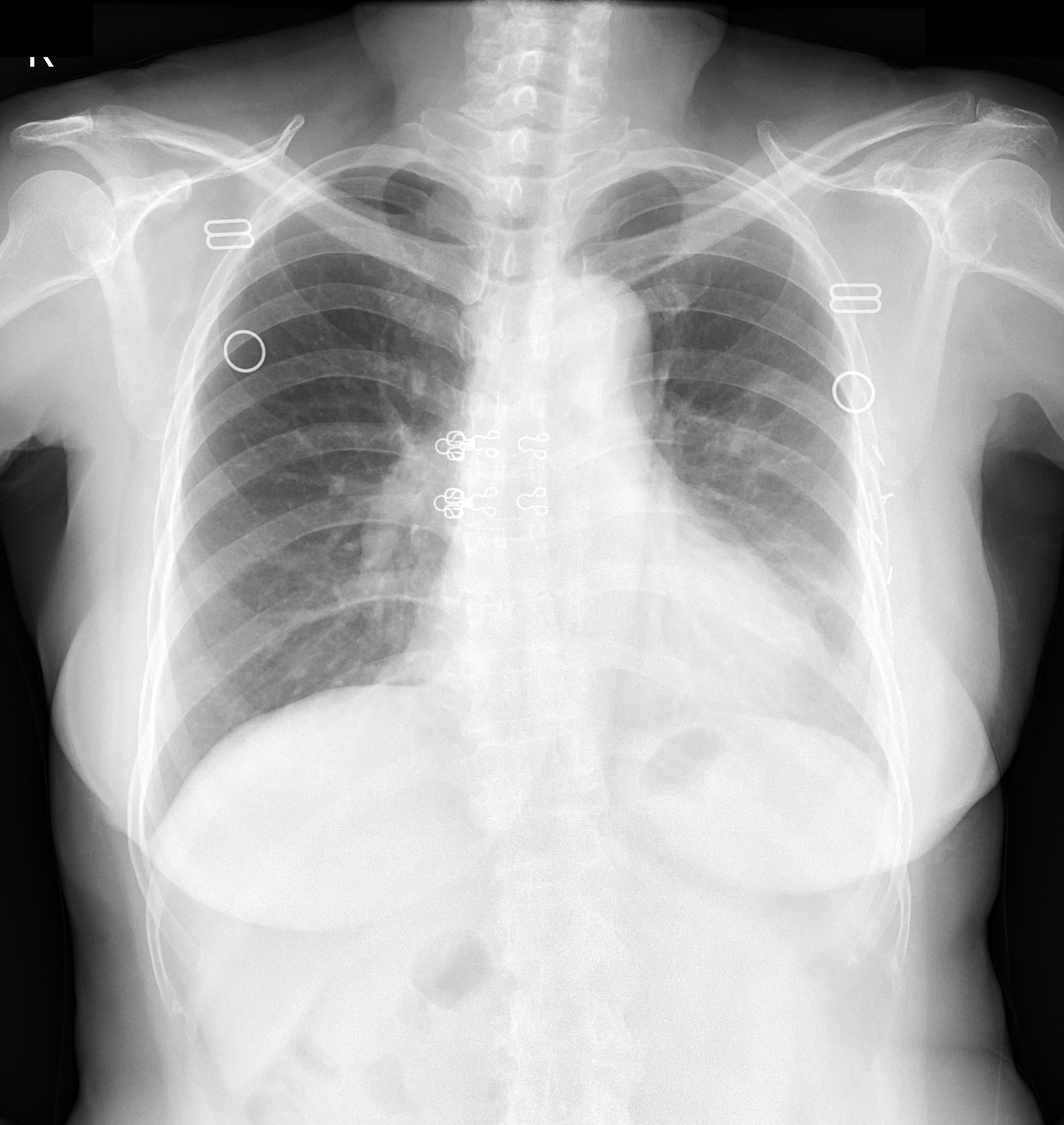Aortic enlargement: (534, 281, 656, 369)
Cardiomegaly: (402, 609, 841, 728)
Pulmonary fibrosis: (705, 366, 804, 459)
